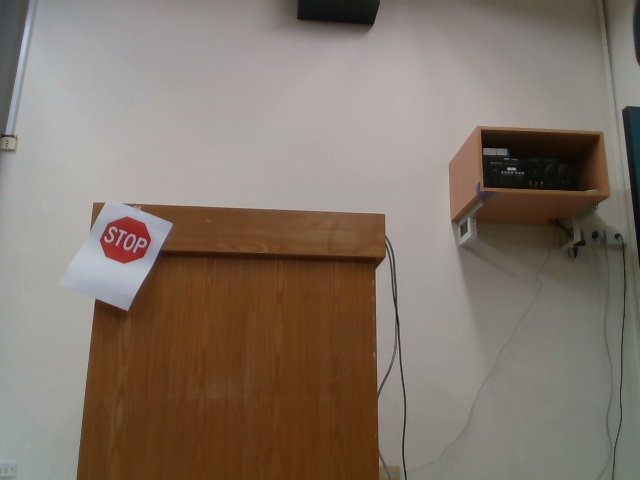stop: (99, 215, 152, 266)
